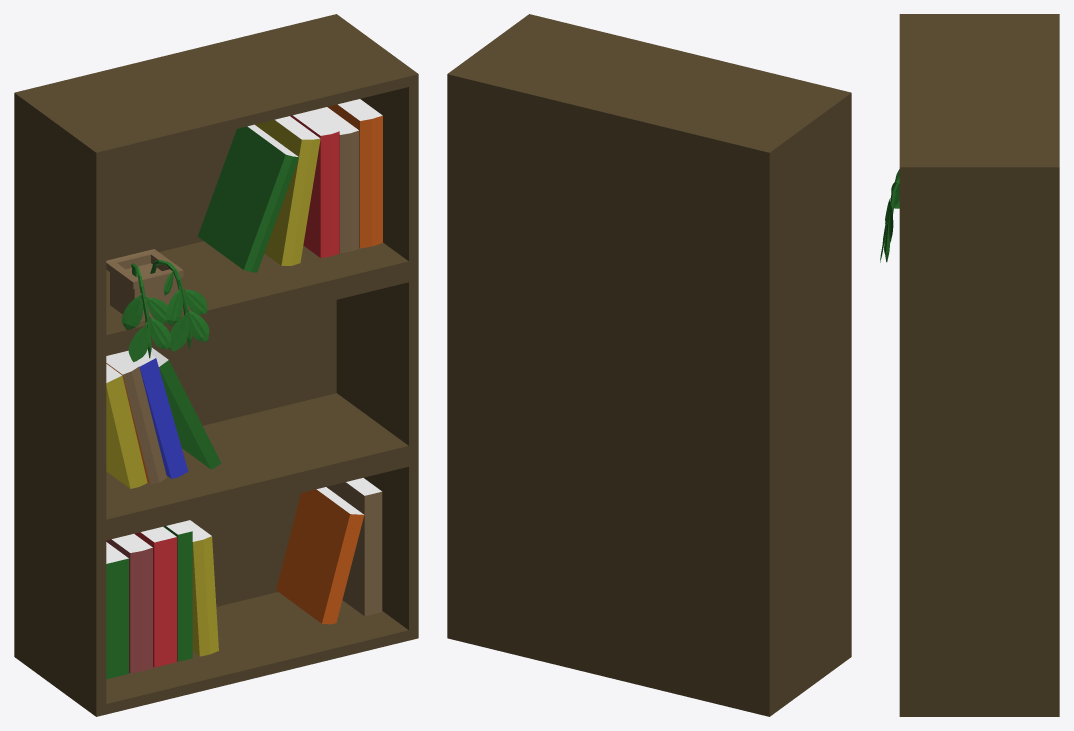
File: BookShelf_02.glb
3 views of the same model, side by side, from view 1: azimuth 30°, elevation 25°; view 2: azimuth 150°, elevation 25°; view 3: azimuth 270°, elevation 25° (orthographic). The views are drawn at different scales.
Visible parts, largest first — view 1: BookShelf02; view 2: BookShelf02; view 3: BookShelf02.
Part boxes in pixels (box(x1,y1,x2,y2)): BookShelf02: box(14, 14, 418, 716); BookShelf02: box(447, 14, 851, 716); BookShelf02: box(880, 14, 1059, 716).
Bounding box in the file's own units: 4.53 × 7.58 × 2.24.
1 material, 1 textured.
